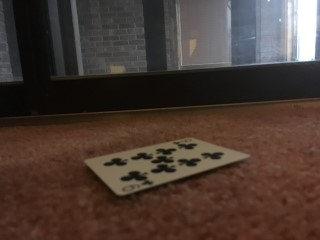NineOfClubs: (84, 137, 251, 196)
